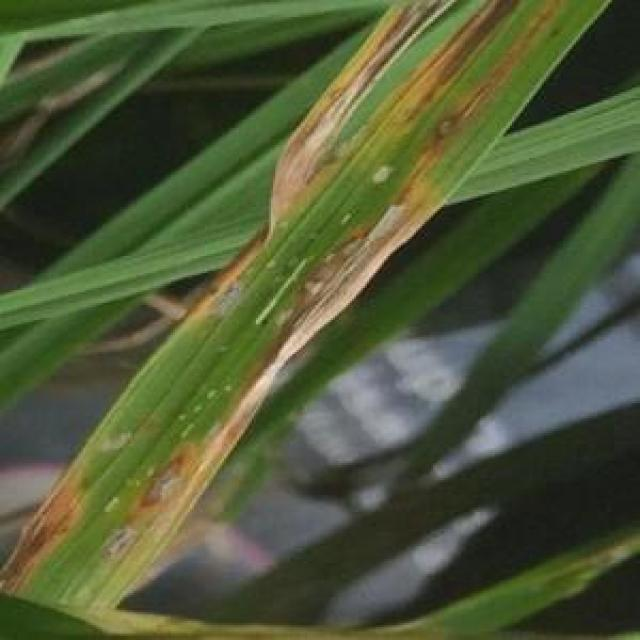Rice_Blast: (122, 448, 200, 508), (83, 514, 145, 555)
